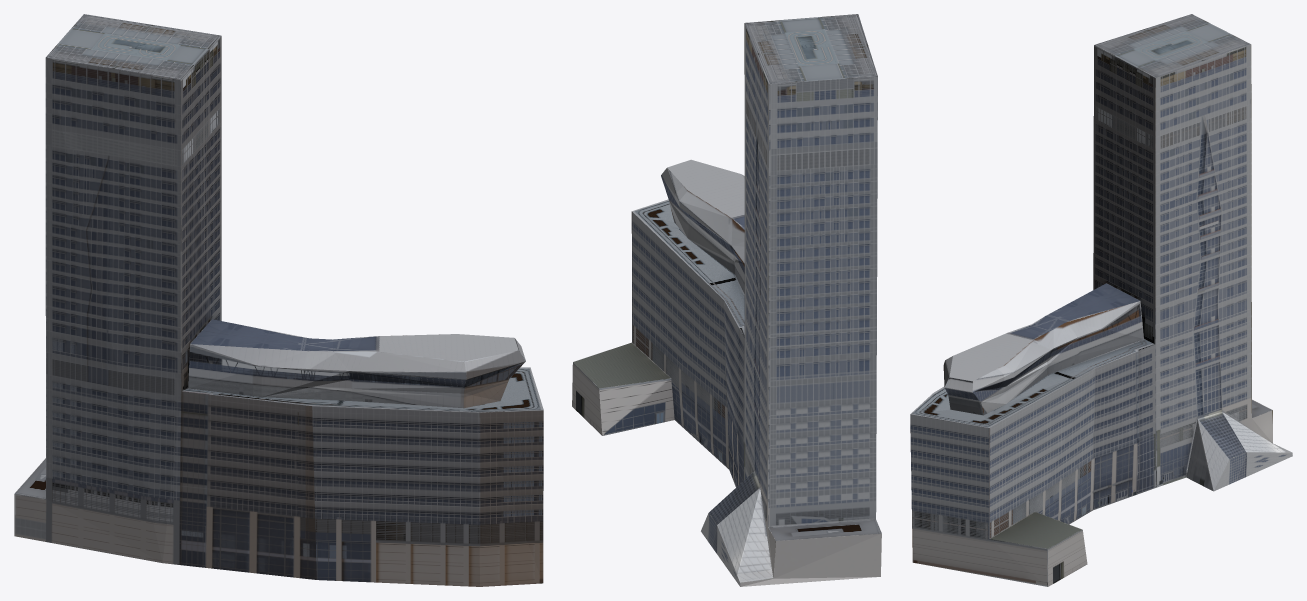
File: 3.09_placed1.glb
The picture shows the model from 3 angles, left to right: view 1: azimuth 30°, elevation 25°; view 2: azimuth 150°, elevation 25°; view 3: azimuth 270°, elevation 25°; orthographic projection. The views are drawn at different scales.
Visible parts, largest first — view 1: 3.09; view 2: 3.09; view 3: 3.09.
Boxes of the visible parts, x1,y1,x2,y2 form: 3.09: (14,14,543,586); 3.09: (572,14,881,586); 3.09: (910,14,1292,586).
Size of the model in its own units: 121 by 139 by 117.
Materials: 1 (1 with a texture image).
